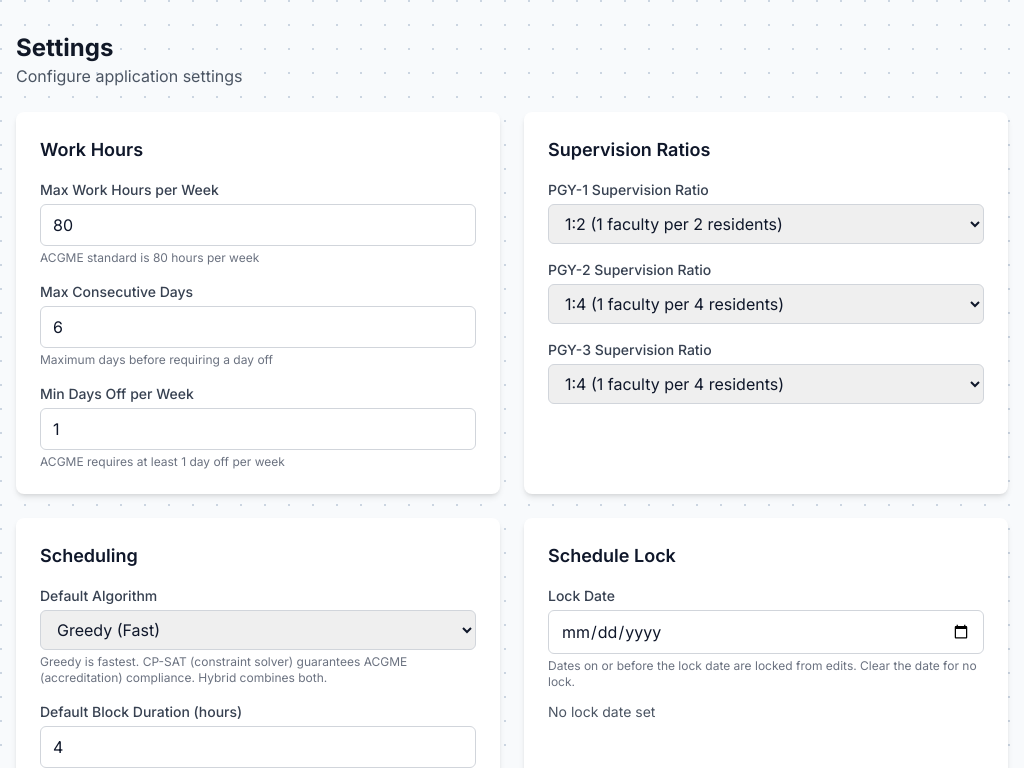
Test: SettingsPage › Form Submission › should show saving state while submitting
Expected: the text "Max Work Hours per Week" is shown, [40, 181, 219, 198]
Step 1. Replace the text in the number field below "Max Work Hours per Week" with "75" → [258, 225], box [40, 204, 476, 246]
(page scrolled)
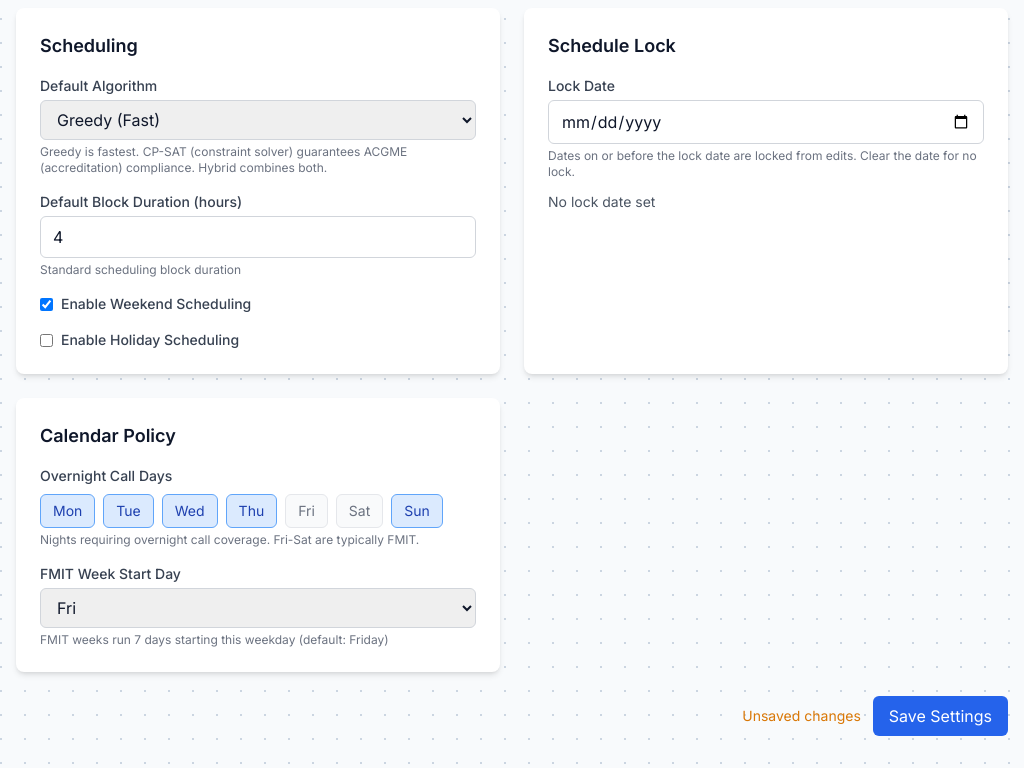
Step 2. Click the button "Save Settings" → [940, 716], box [873, 696, 1008, 736]
(page scrolled)
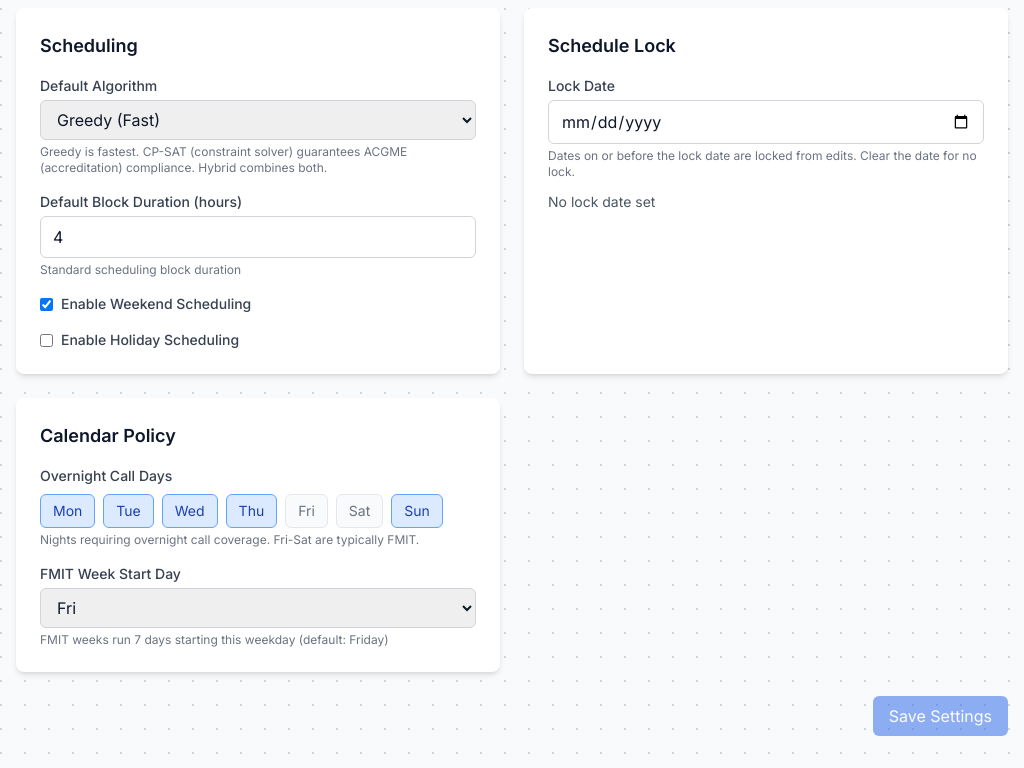
Now the button named "saving" is disabled, box [873, 696, 1008, 736]
